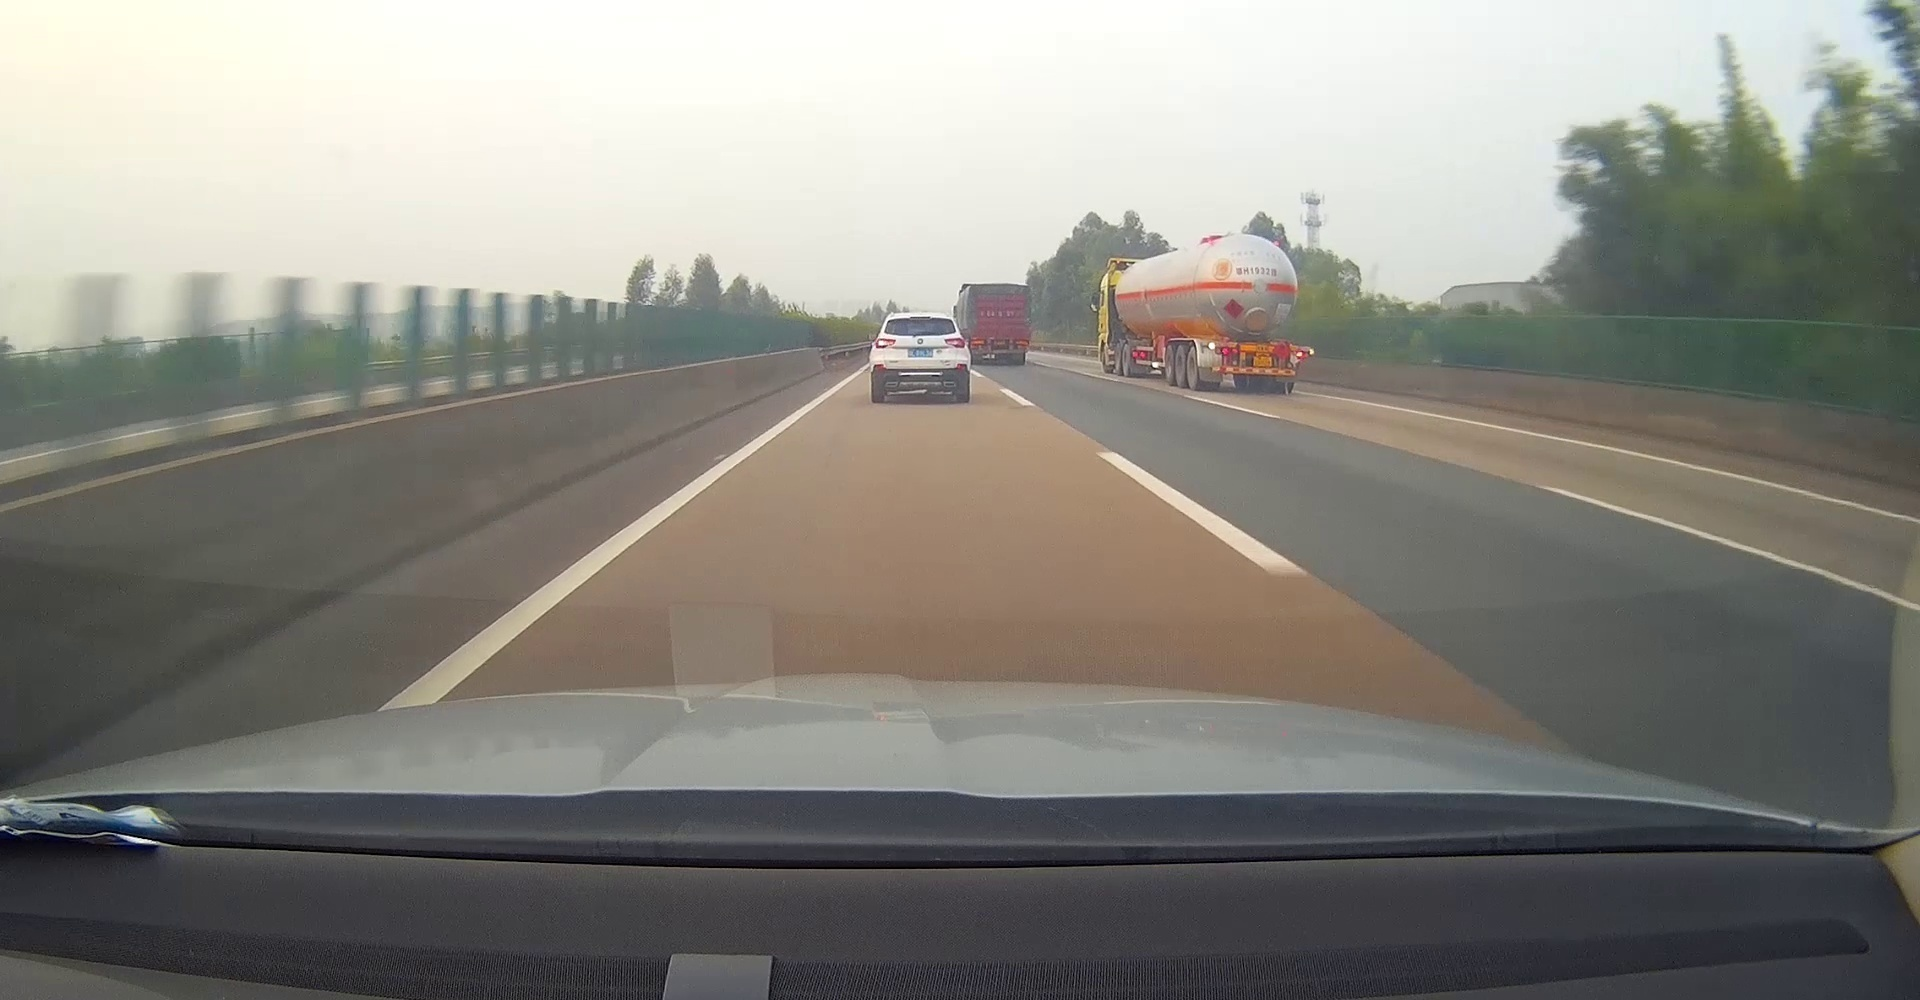L_light: (875, 338, 895, 349), (1217, 348, 1236, 354)
R_light: (943, 338, 965, 349), (1291, 352, 1307, 358)
T_light: (1256, 344, 1270, 350), (910, 316, 931, 320)
day-brake: (1195, 339, 1314, 393)
day-no: (869, 312, 971, 404)
